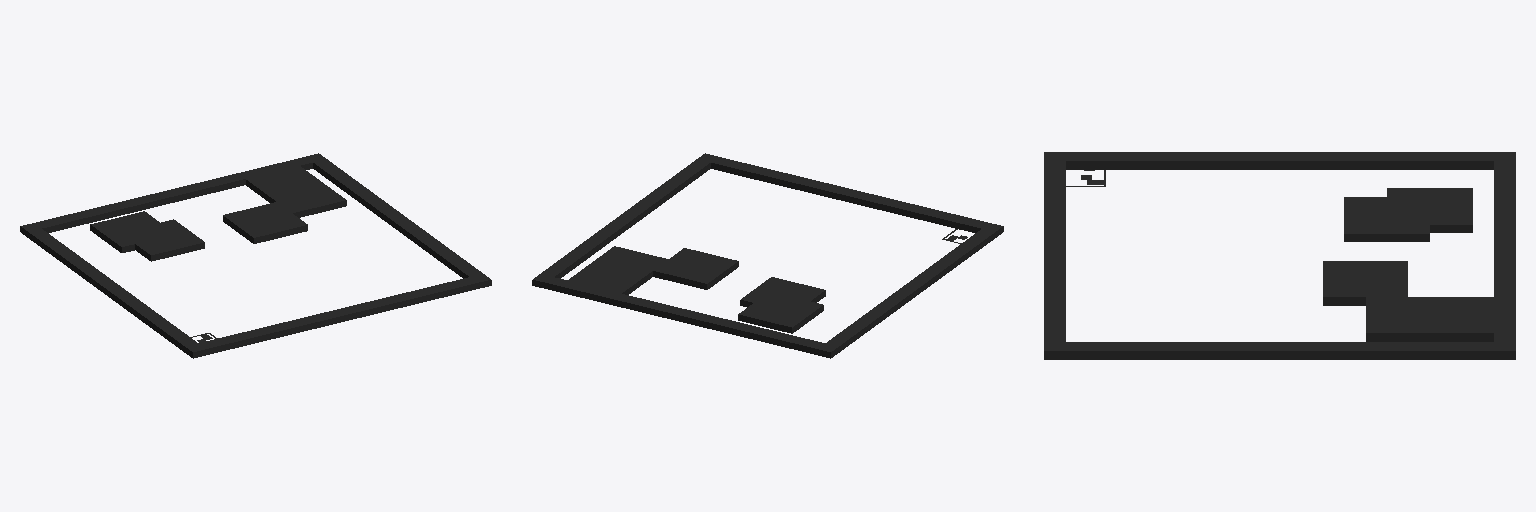
The robot description file, URDF, robot "Room24":
<robot name="Room24">
    <link name="_name">
        <visual> 
            <origin rpy="0.0 0.0 0.0" xyz="-0.5310860083546719 -0.6156729891957669 -0.010000000000000005" />
                <geometry>
                    <mesh filename="Room24/Room24.obj" scale="1 1 0.1" />
                </geometry>

            <material name="black">
                <color rgba="0.2 0.2 0.2 0.95" />
            </material>
        </visual>

       <collision concave="yes" name="collision_0">
            <origin rpy="0.0 0.0 0.0" xyz="-0.5310860083546719 -0.6156729891957669 -0.010000000000000005" />
            <geometry>
                <mesh filename="Room24/Room24_vhacd.obj" scale="1 1 0.1" />
            </geometry>
        </collision>

        <inertial> 
            <mass value="0" />
            <inertia ixx="0" ixy="0" ixz="0" iyy="0" iyz="0" izz="0" />
        </inertial> 
    </link>
</robot>

--- Facts derived from the render (not from the file) ---
Views: 3 orthographic renders of the robot side by side, from view 1: azimuth 30°, elevation 25°; view 2: azimuth 150°, elevation 25°; view 3: azimuth 270°, elevation 25°.
Robot: Room24 — 1 links, 0 joints (none); root link _name; default pose: all joints at 0.
Links seen in each view (by area): view 1: _name; view 2: _name; view 3: _name.
Link boxes in pixels (left/top/right/bottom): _name: left=20, top=153, right=491, bottom=358; _name: left=532, top=153, right=1003, bottom=358; _name: left=1044, top=152, right=1515, bottom=359.
Size in the robot's own frame: 1 by 1 by 0.02 metres.
1 mesh visuals loaded from 1 distinct referenced files (1 OBJ).